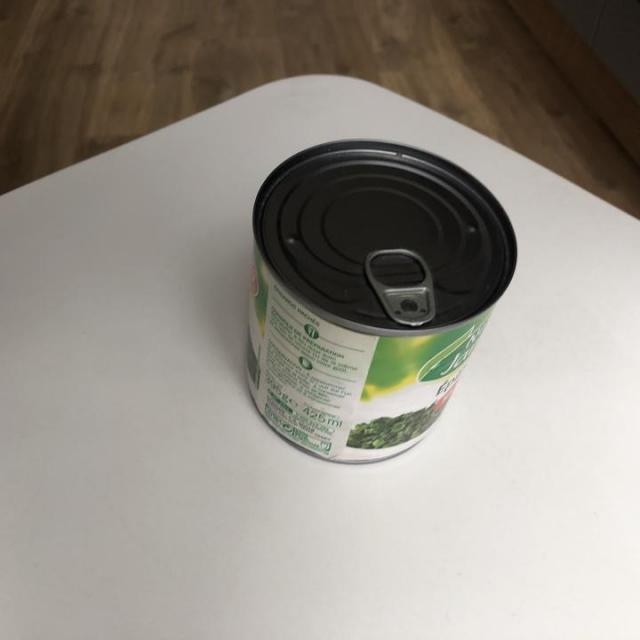recyclable: (238, 126, 522, 469)
